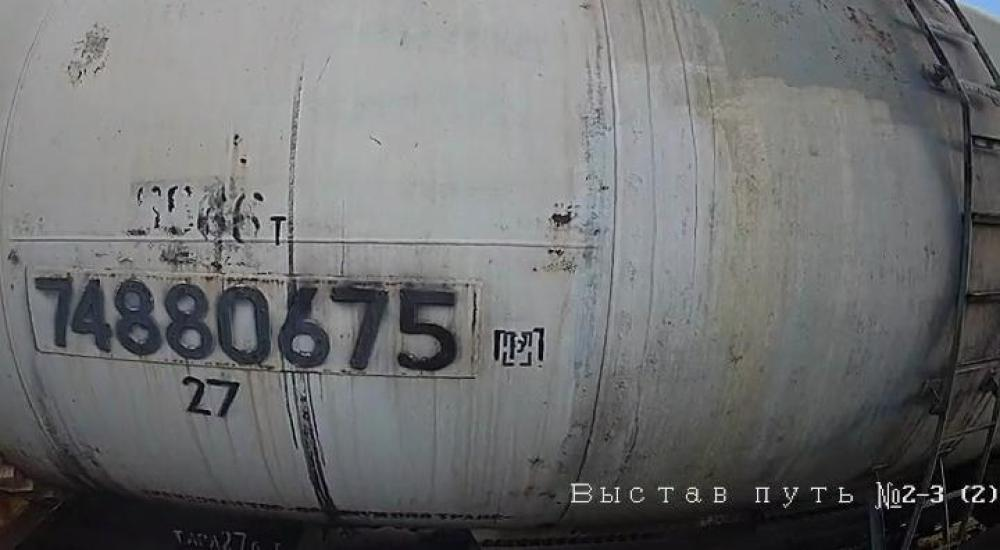Wagon-number: (30, 267, 471, 376)
